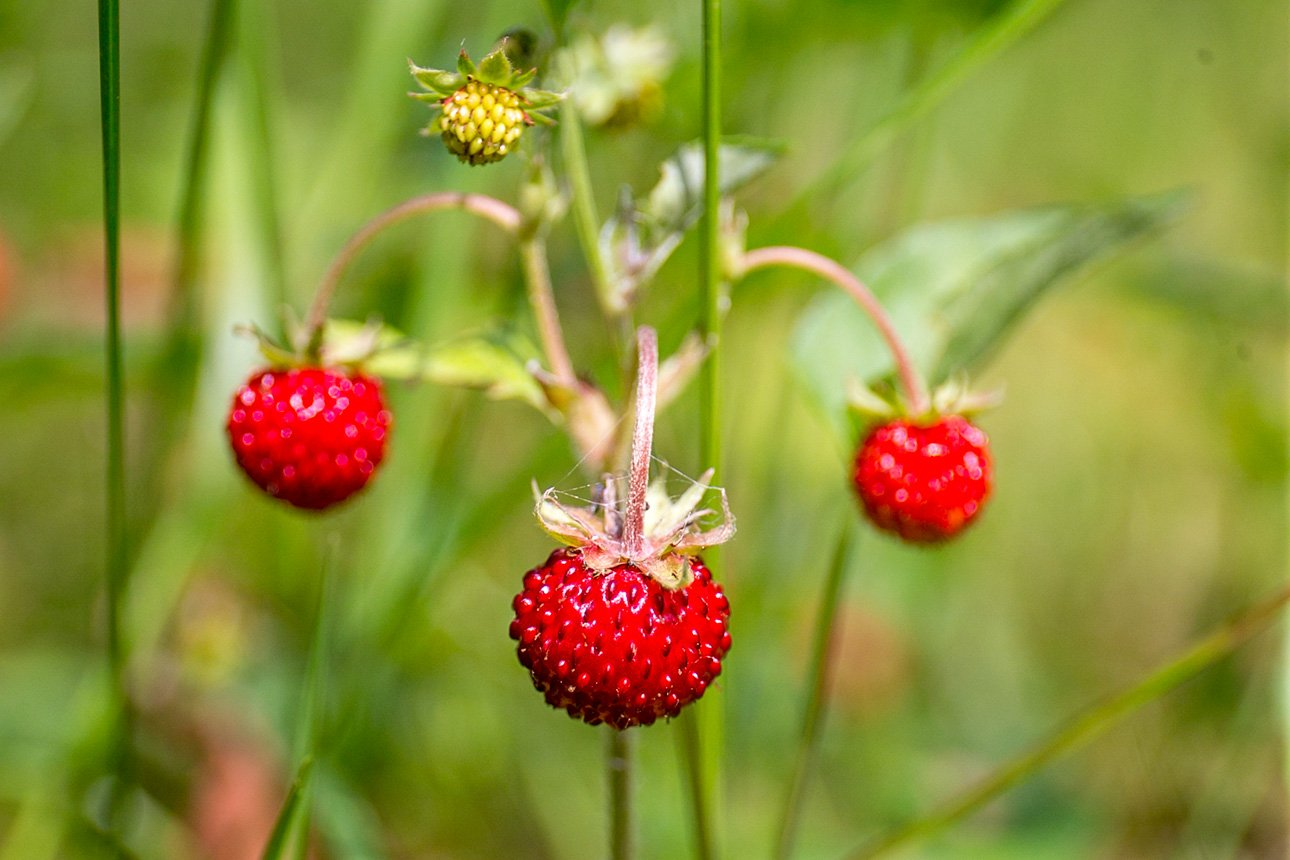peduncle: (295, 192, 521, 358), (733, 246, 932, 417), (623, 326, 657, 556)
strawberry: (510, 548, 730, 728), (227, 367, 390, 509), (854, 414, 991, 542)
